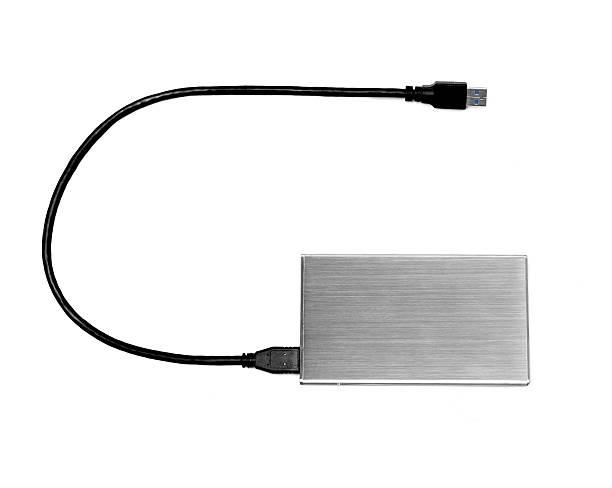HDD: (293, 253, 533, 389)
